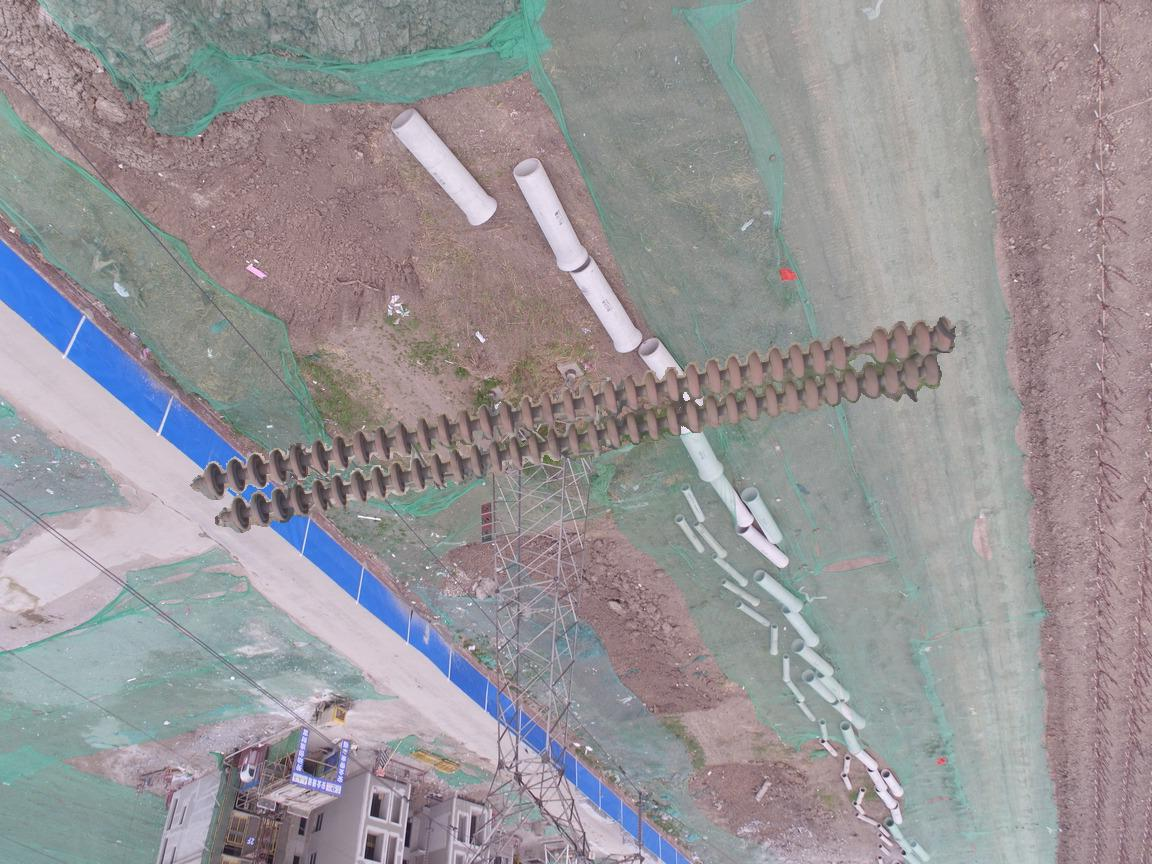insulator: (196, 314, 958, 536)
insulator_stringdrop: (827, 326, 892, 374)
